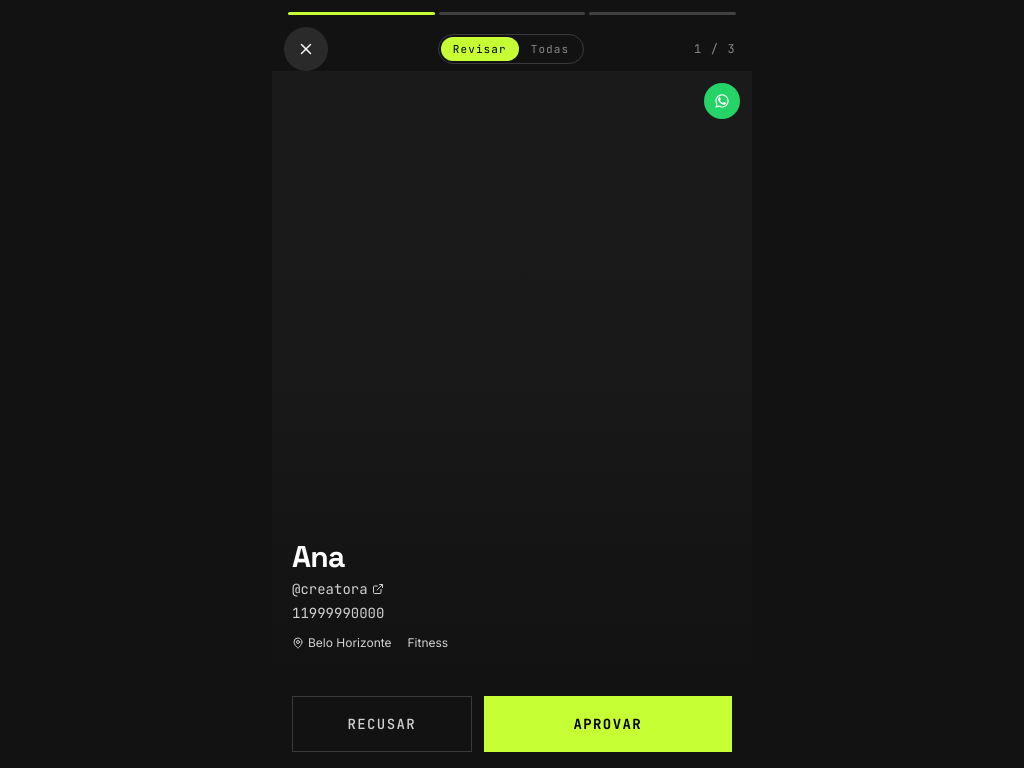
CampaignPipelineMobileStory — navegação › chega no fim de fila depois do último candidato
Click the button named "Próximo candidato": (632, 371) [512,71,752,671]
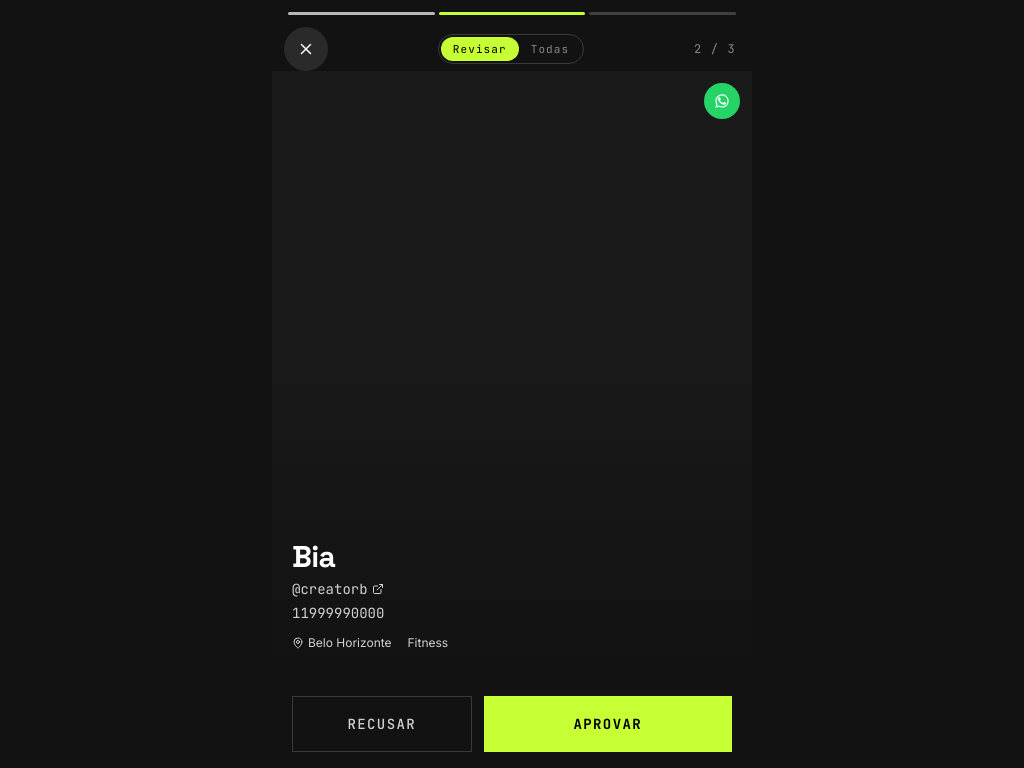
Click the button named "Próximo candidato": (632, 371) [512,71,752,671]
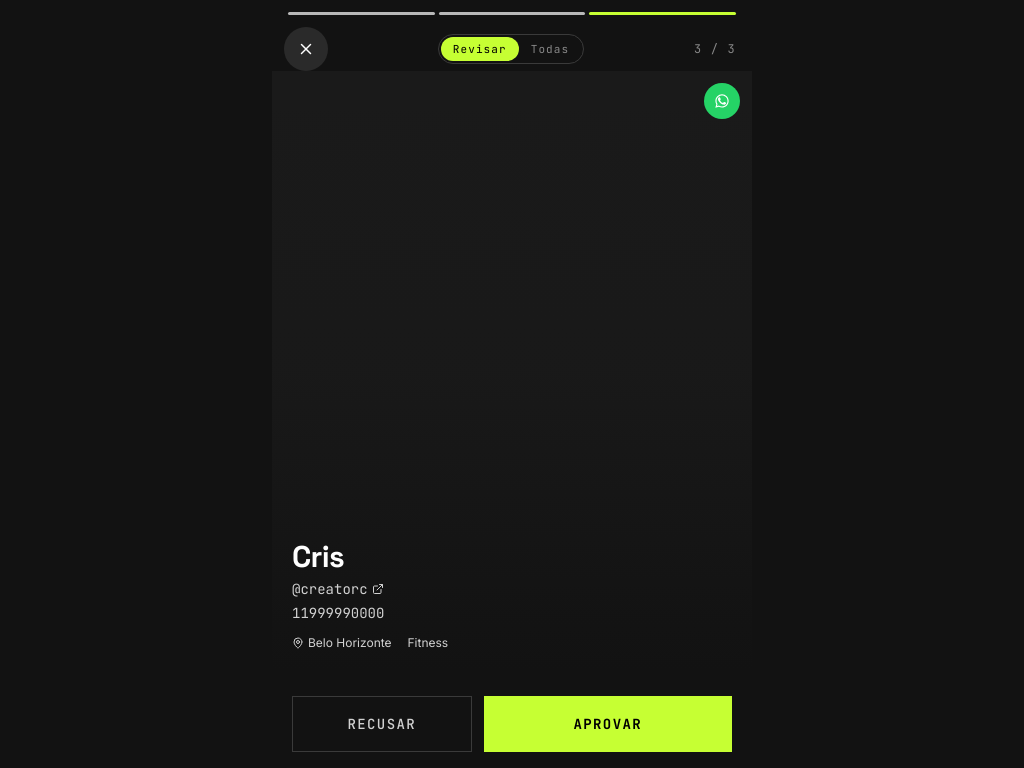
Click the button named "Próximo candidato": (632, 371) [512,71,752,671]
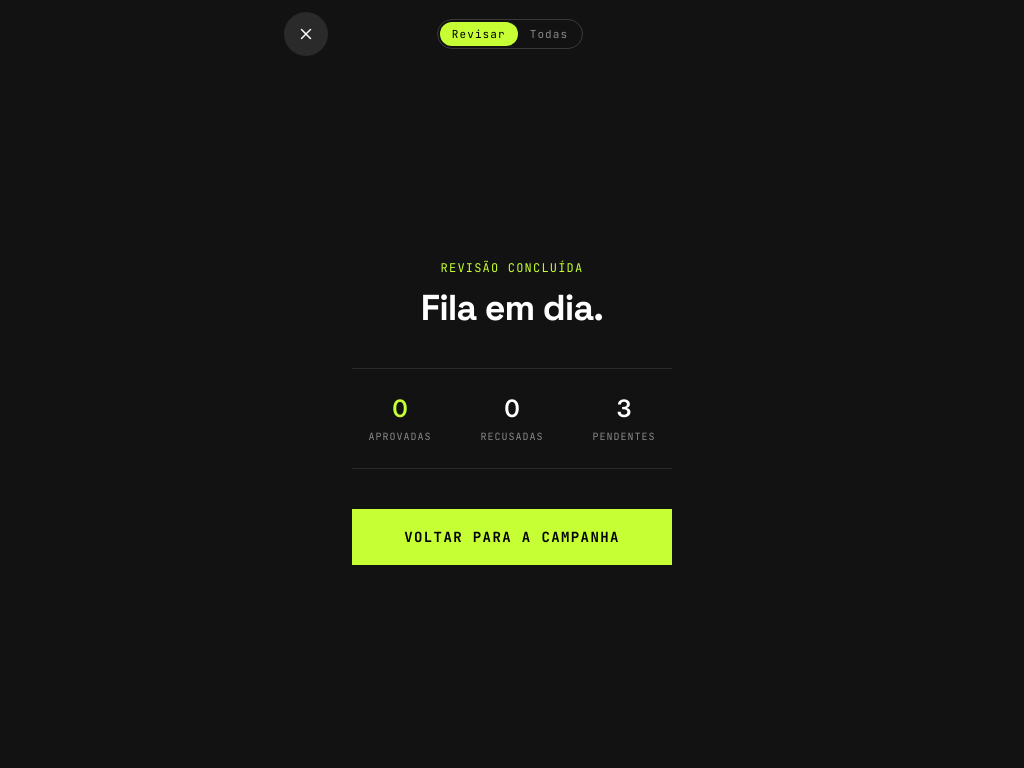
Result: the heading "Fila em dia." is shown at [421,288,603,328]
